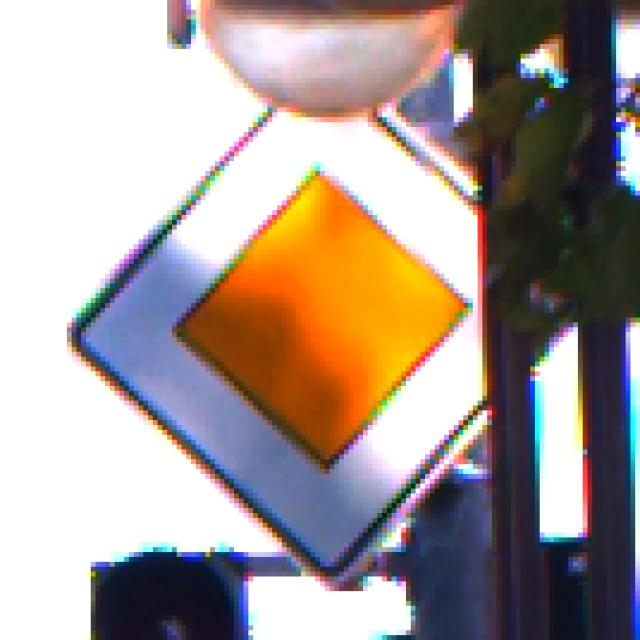Main Road: (59, 60, 589, 587)
